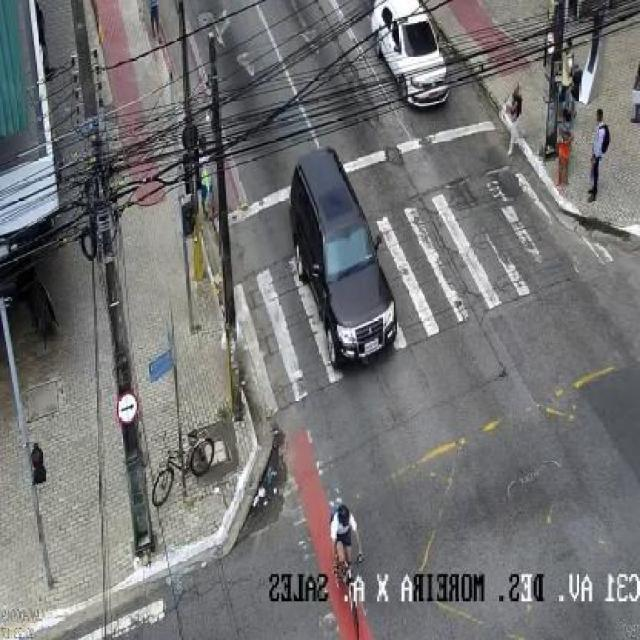Car: (281, 149, 415, 380), (363, 3, 467, 107)
Cycle: (299, 470, 379, 632)
